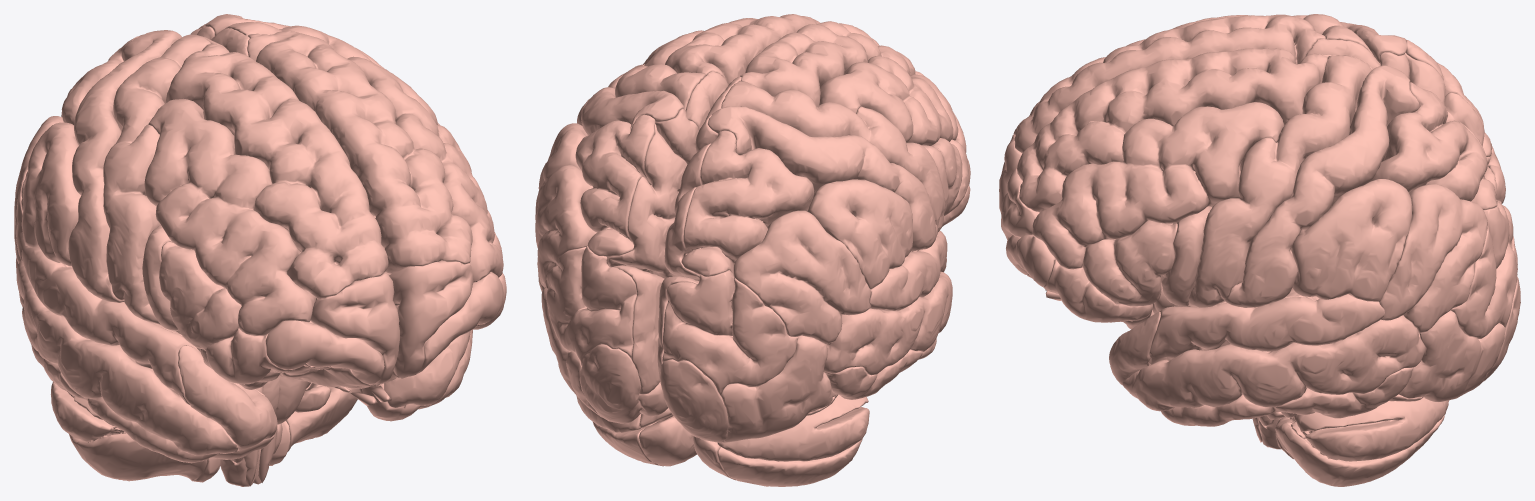
The model's file is brain.glb.
3 views of the same model, side by side, from view 1: azimuth 30°, elevation 25°; view 2: azimuth 150°, elevation 25°; view 3: azimuth 270°, elevation 25° (orthographic). The views are drawn at different scales.
Parts seen in each view (by area): view 1: Allen_olfactory_bulb_L; view 2: Allen_olfactory_bulb_L; view 3: Allen_olfactory_bulb_L.
Boxes of the visible parts, x1,y1,x2,y2 form: Allen_olfactory_bulb_L: [14, 14, 506, 486]; Allen_olfactory_bulb_L: [535, 14, 970, 486]; Allen_olfactory_bulb_L: [999, 14, 1520, 486].
Size of the model in its own units: 0.1364 by 0.1461 by 0.167.
